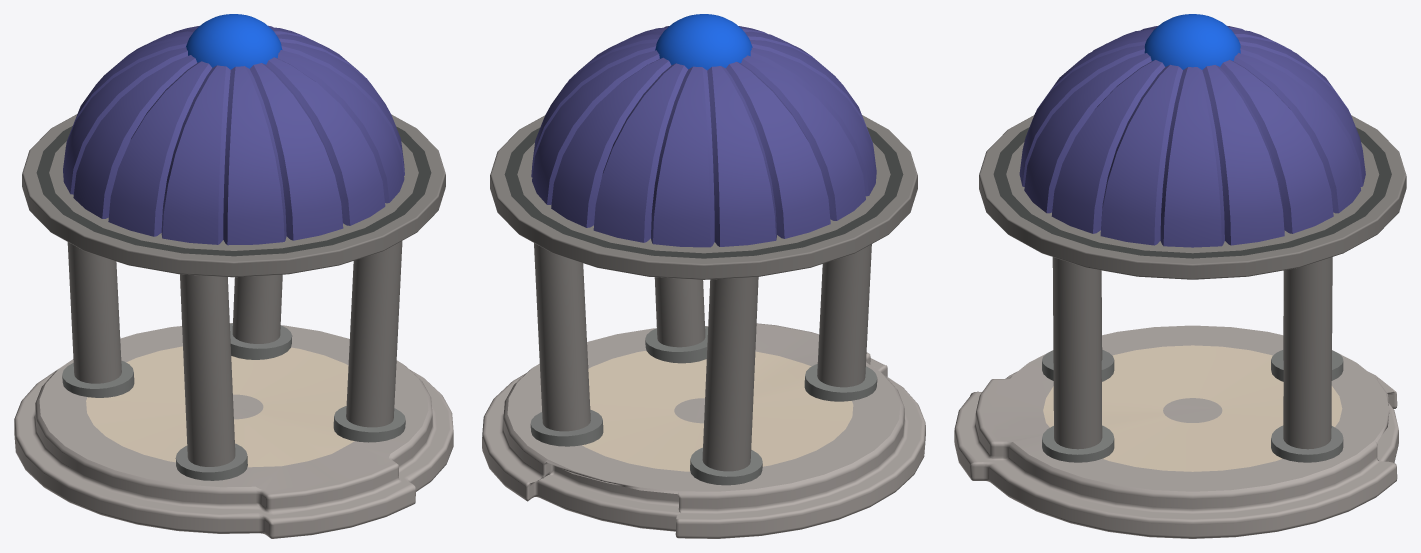
Rendered from SM_Pavillion.fbx.
The picture shows the model from 3 angles, left to right: view 1: azimuth 30°, elevation 25°; view 2: azimuth 150°, elevation 25°; view 3: azimuth 270°, elevation 25°; orthographic projection.
Visible parts, largest first — view 1: Pavillion.001; view 2: Pavillion.001; view 3: Pavillion.001.
Boxes of the visible parts, x1,y1,x2,y2 form: Pavillion.001: (14, 14, 453, 538); Pavillion.001: (482, 14, 925, 538); Pavillion.001: (954, 14, 1406, 538).
Bounding box in the file's own units: 370 × 392 × 377.
